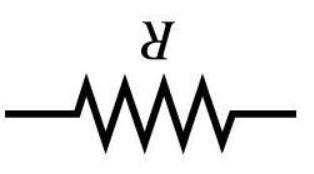resistor: (73, 69, 250, 154)
